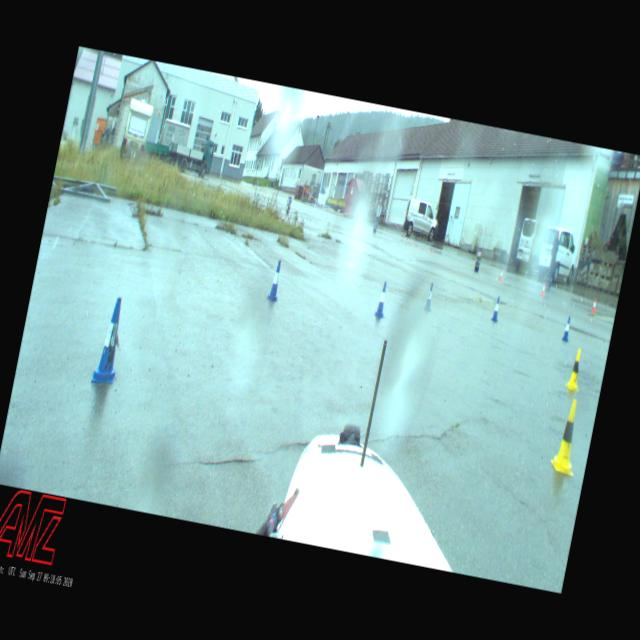blue_cone: (92, 295, 130, 386), (267, 259, 285, 302), (374, 280, 390, 318), (423, 282, 436, 313), (561, 315, 574, 343), (491, 296, 502, 322)
orange_cone: (591, 297, 598, 313), (540, 281, 547, 297), (499, 268, 504, 282)
yellow_cone: (548, 396, 588, 478), (564, 346, 588, 392)
